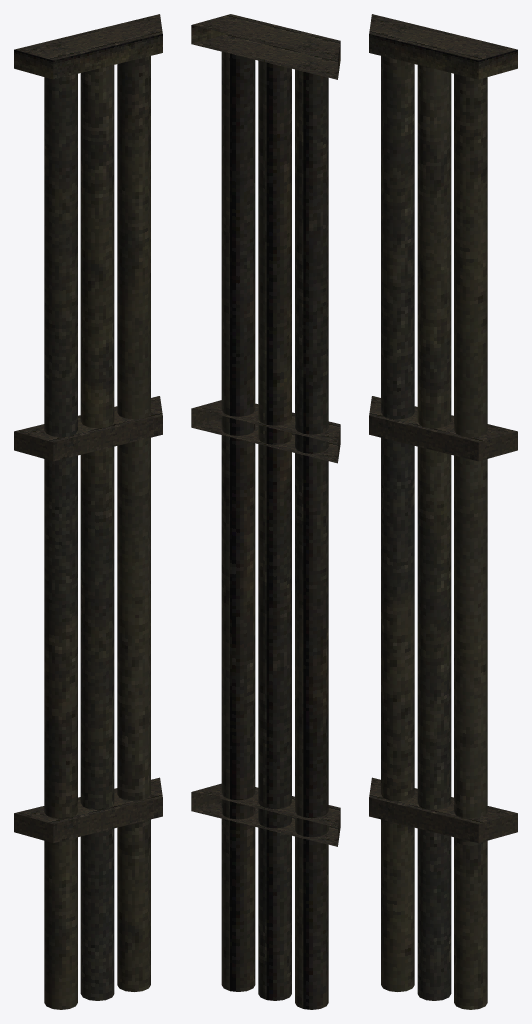
Rendered from pipes_hr_1_vertical_end_1.glb.
3 views of the same model, side by side, from view 1: azimuth 30°, elevation 25°; view 2: azimuth 150°, elevation 25°; view 3: azimuth 330°, elevation 25° (orthographic).
Parts seen in each view (by area): view 1: pipes_hr_1_vertical_end_1; view 2: pipes_hr_1_vertical_end_1; view 3: pipes_hr_1_vertical_end_1.
Boxes of the visible parts, box(x1,y1,x2,y2) form: pipes_hr_1_vertical_end_1: box(14, 14, 162, 1009); pipes_hr_1_vertical_end_1: box(191, 14, 340, 1009); pipes_hr_1_vertical_end_1: box(369, 14, 517, 1009).
Bounding box in the file's own units: 0.4 × 2.5 × 0.1.
Materials: 1 (1 with a texture image).
